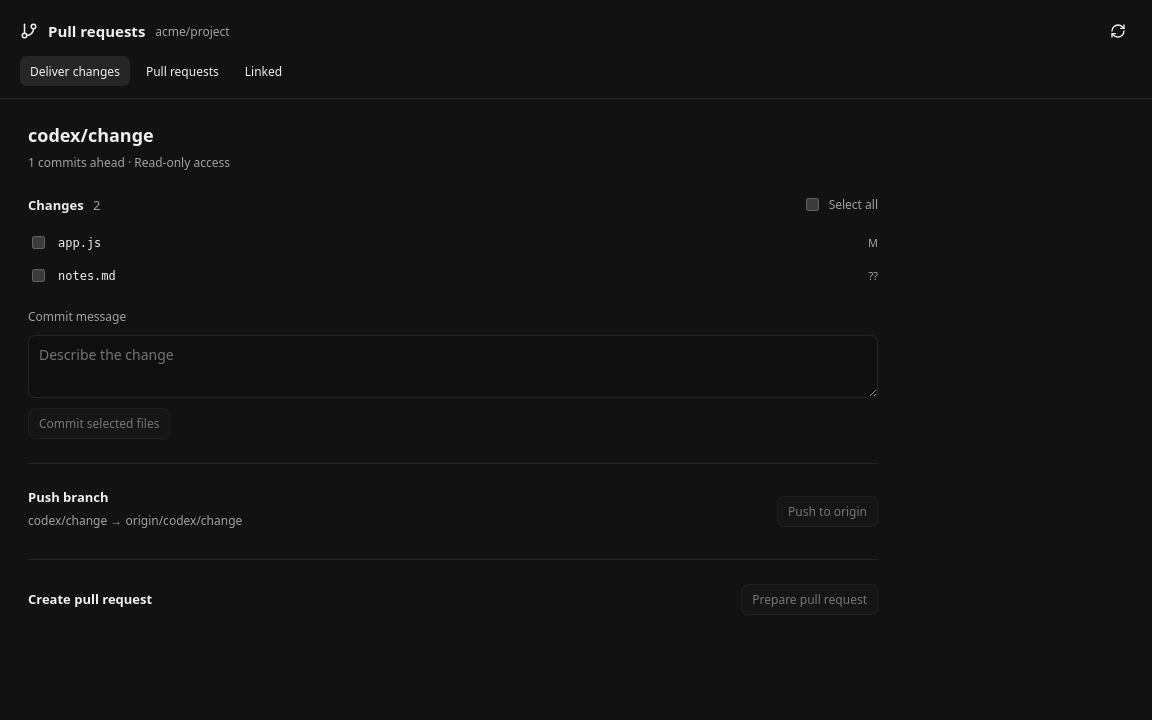
Test case: native PR delivery Preview tab › keeps delivery controls disabled for read-only chats while allowing review inspection
Check: the button "Push to origin" is disabled, box [777,496,878,527]
Check: the button "Prepare pull request" is disabled, box [741,584,878,615]
Click the button "Pull requests" at (182, 71), box [136,56,229,86]
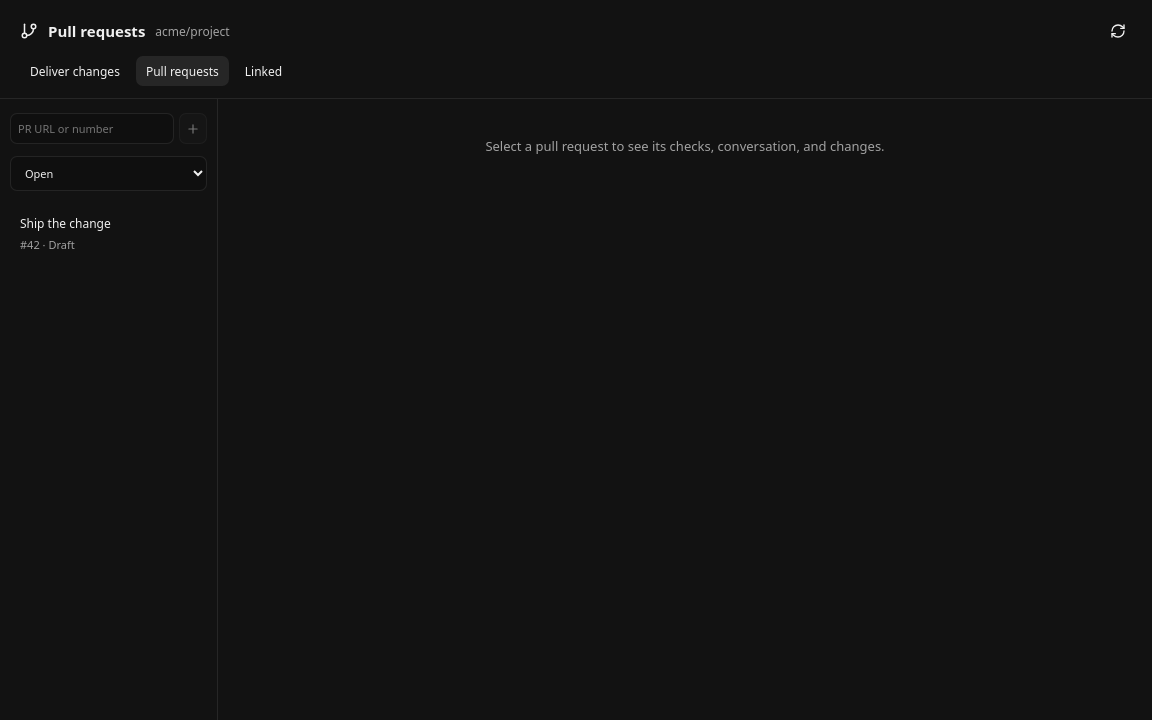
Click the button with aria-label "#42 Ship the change" at (108, 234), box [10,205,207,262]
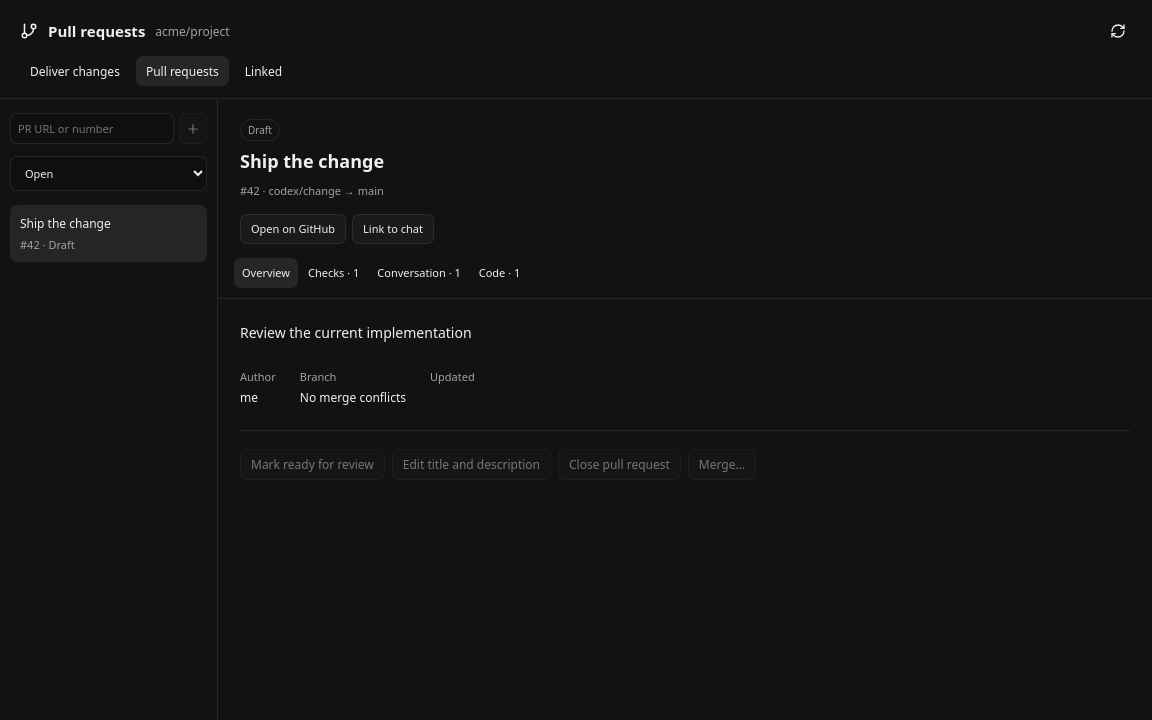
Check: the button "Mark ready for review" is disabled, box [240,449,385,480]
Click the button "Checks · 1" at (334, 273), box [300,258,367,288]
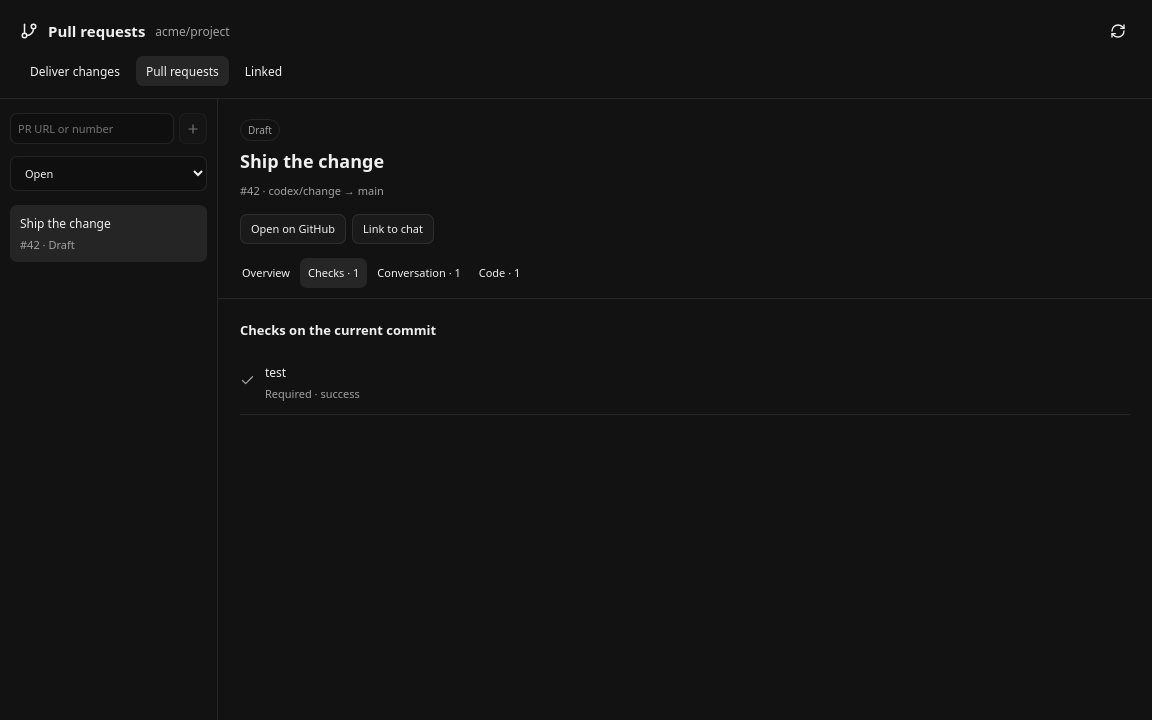
Check: the text "test" is shown, box [265,364,286,381]
